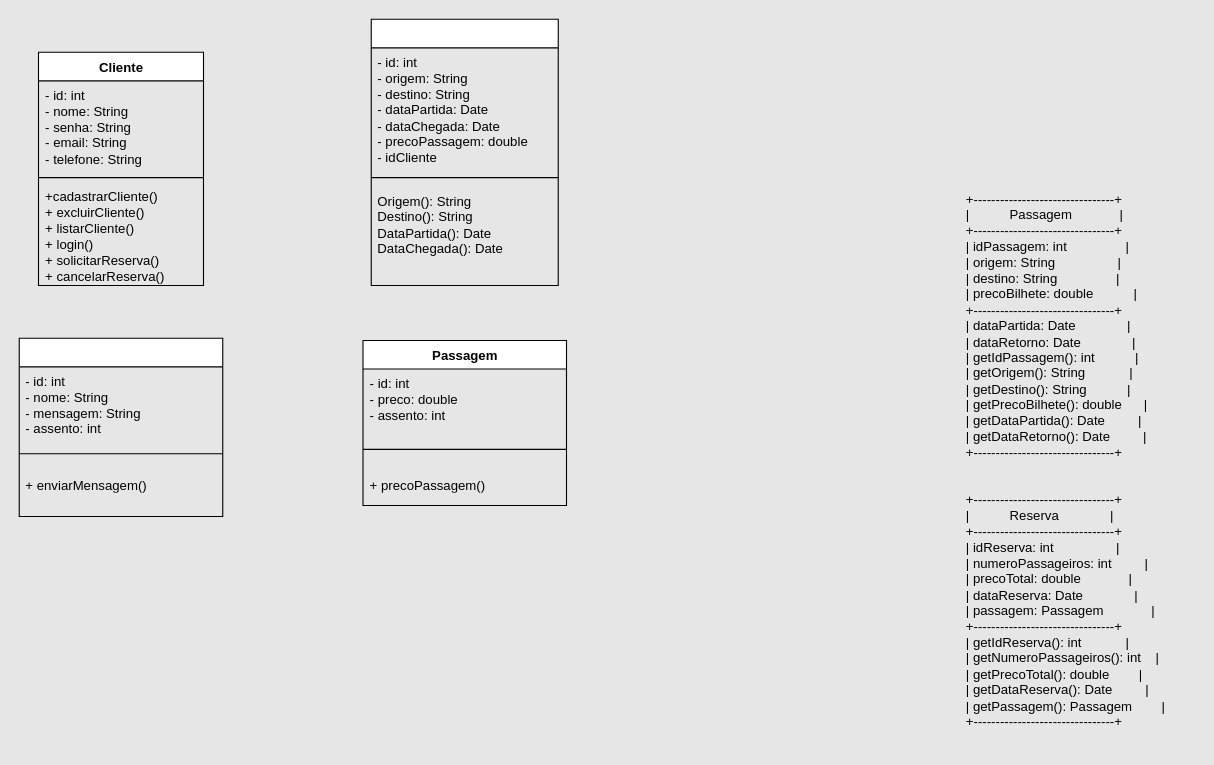
The diagram is 1214 pixels wide and 765 high, and some of its shapes have lost their labels. The box of each missing label's shape, as (x1, y1, x2, y2) in pixels:
Contato: (18, 337, 223, 516)
Reserva: (370, 18, 558, 285)
